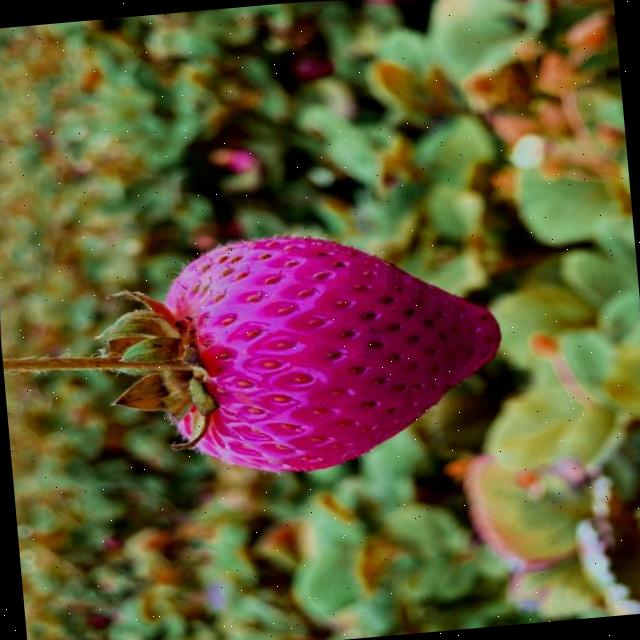strawberry: (102, 235, 500, 471)
